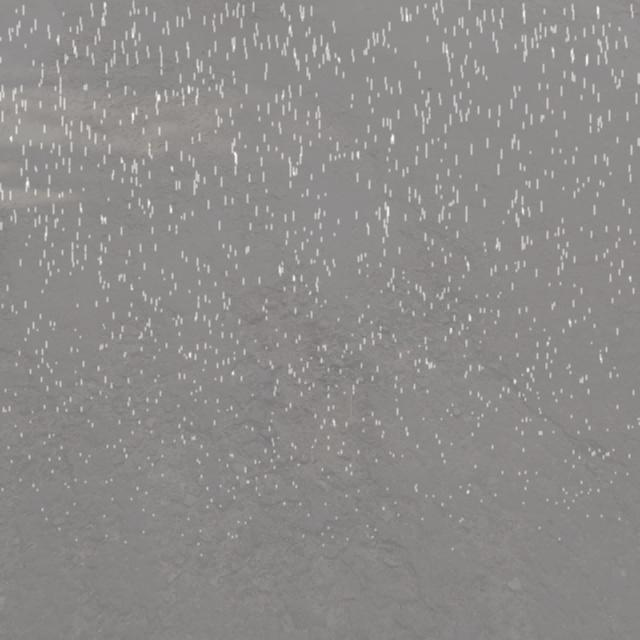Pothole: (231, 277, 374, 491)
